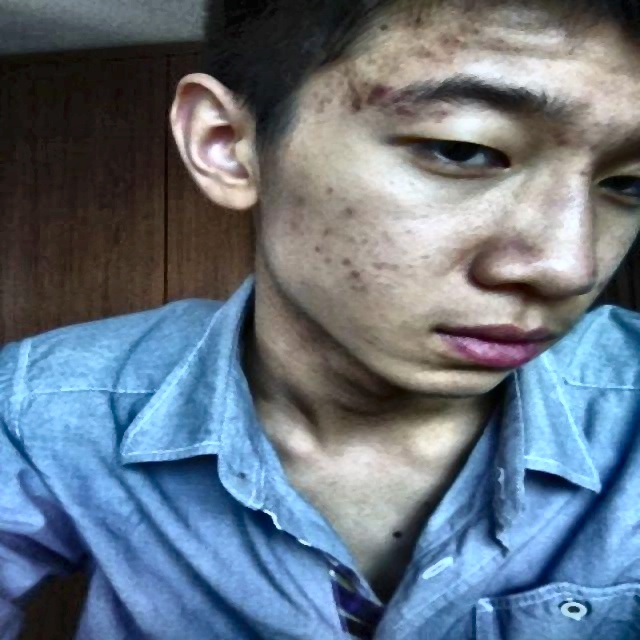pustule: (333, 247, 379, 277), (317, 213, 344, 236), (442, 35, 474, 54), (334, 76, 366, 93), (338, 97, 366, 116), (367, 79, 392, 100), (399, 97, 412, 116)
